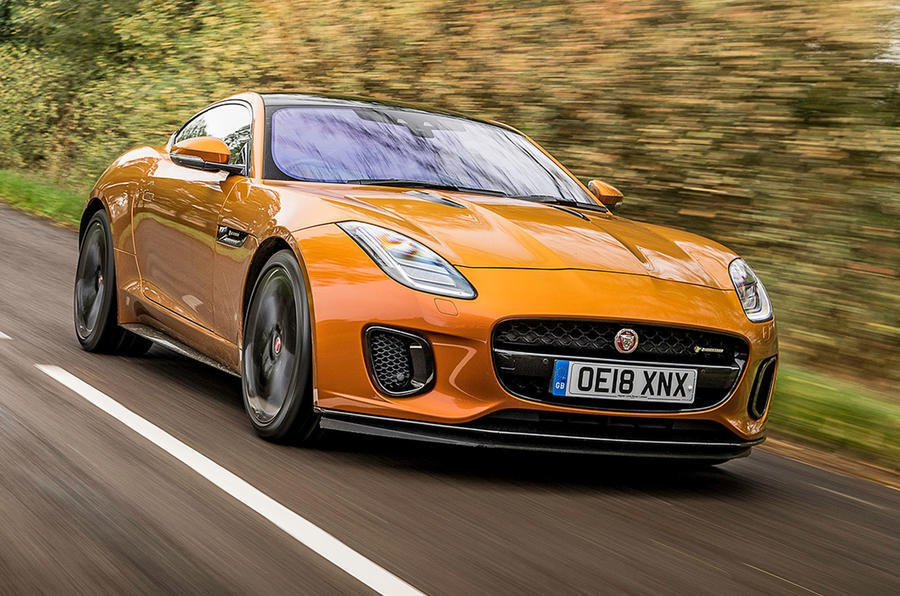car: (65, 90, 777, 481)
